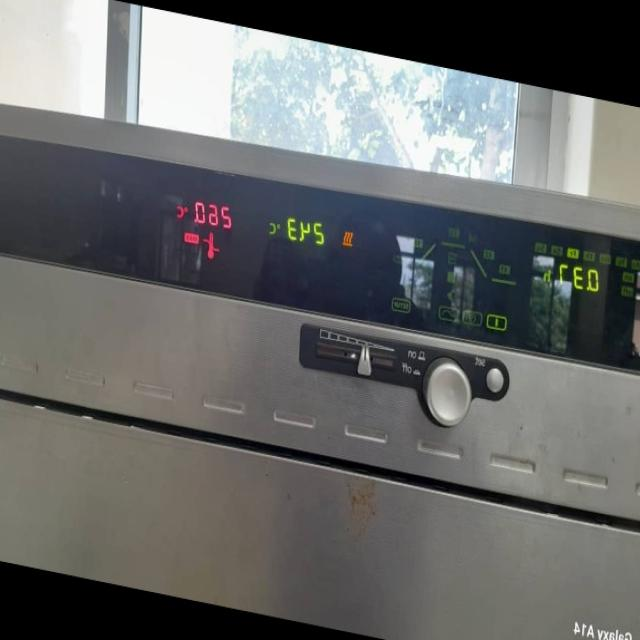Incubator: (0, 62, 640, 640)
